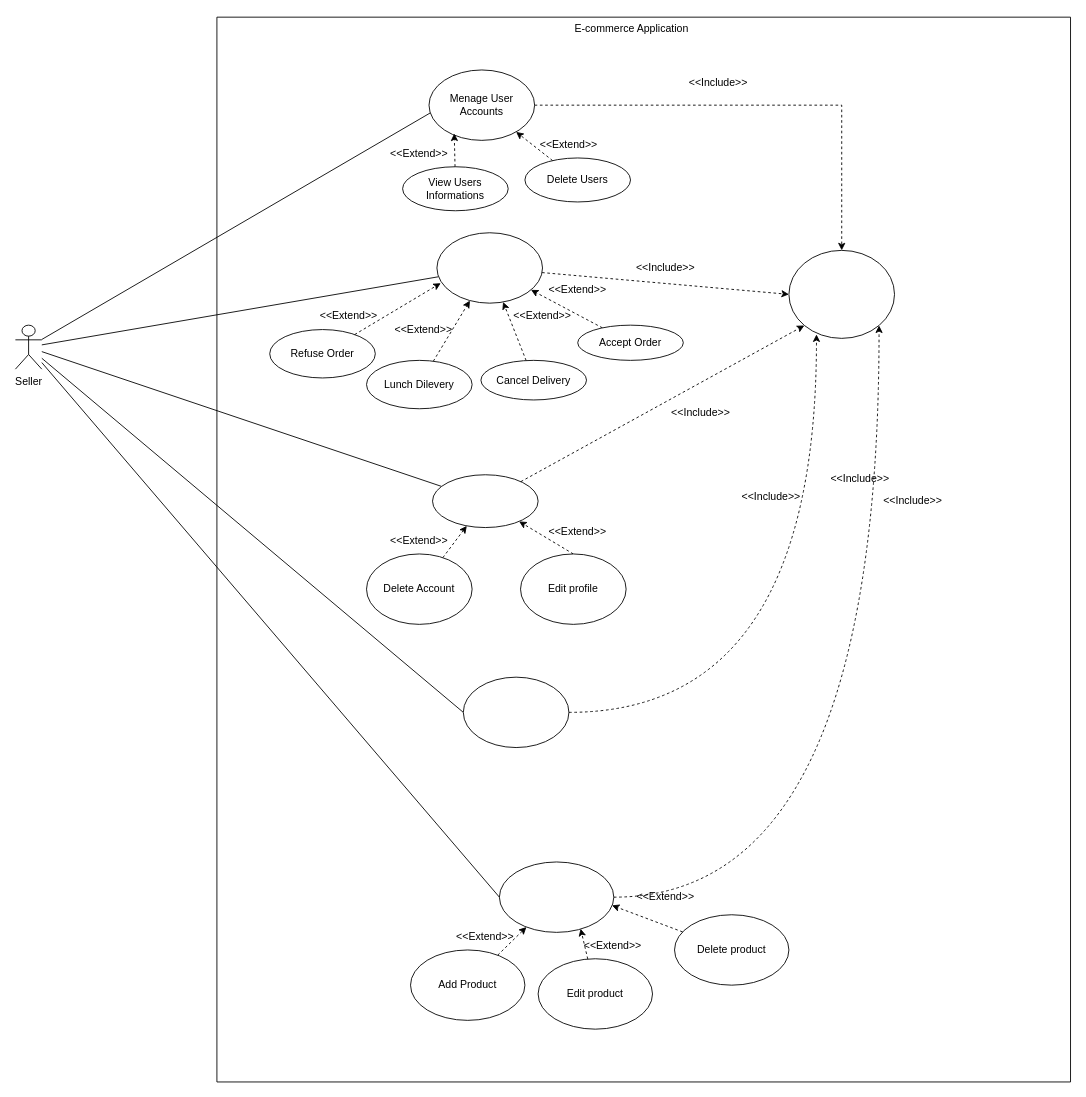
Image size: 1086x1097. Some labels were removed from this diagram. Here are the shapes that lost their labels. From the top down, the centre of each, then its label:
the point at 489,267: Manage Orders
the point at 841,293: Authentication
the point at 485,501: Menage Account
the point at 515,712: Report Users
the point at 556,896: Menage products
